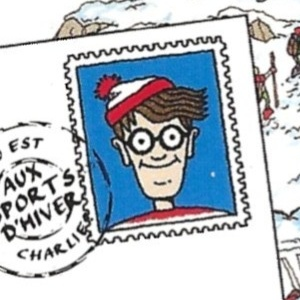Charlie: (79, 71, 221, 229)
